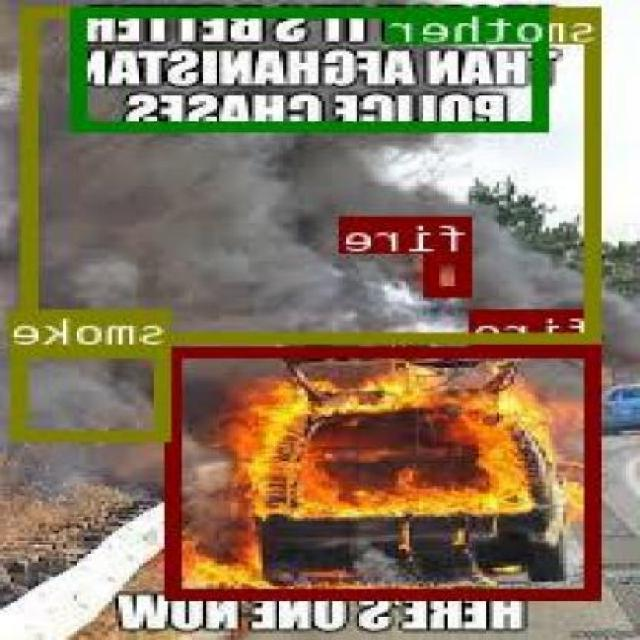Fire: (172, 345, 602, 598)
Smoke: (34, 137, 328, 289), (17, 346, 175, 439)
